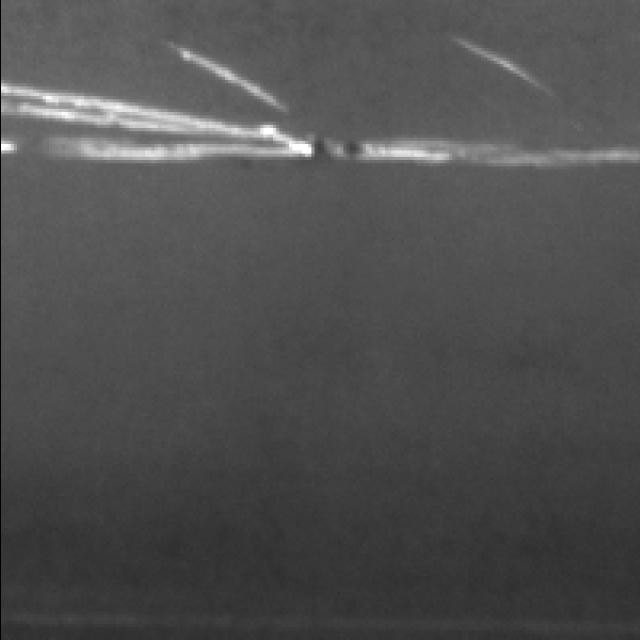scratches: (0, 127, 637, 167), (0, 80, 163, 136), (173, 41, 307, 109), (452, 42, 572, 96)
